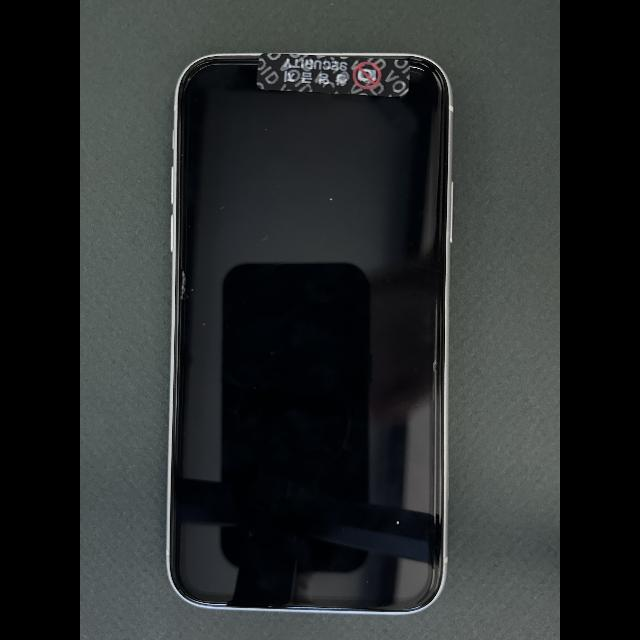phone: (167, 53, 450, 614)
sticker: (257, 53, 411, 97)
